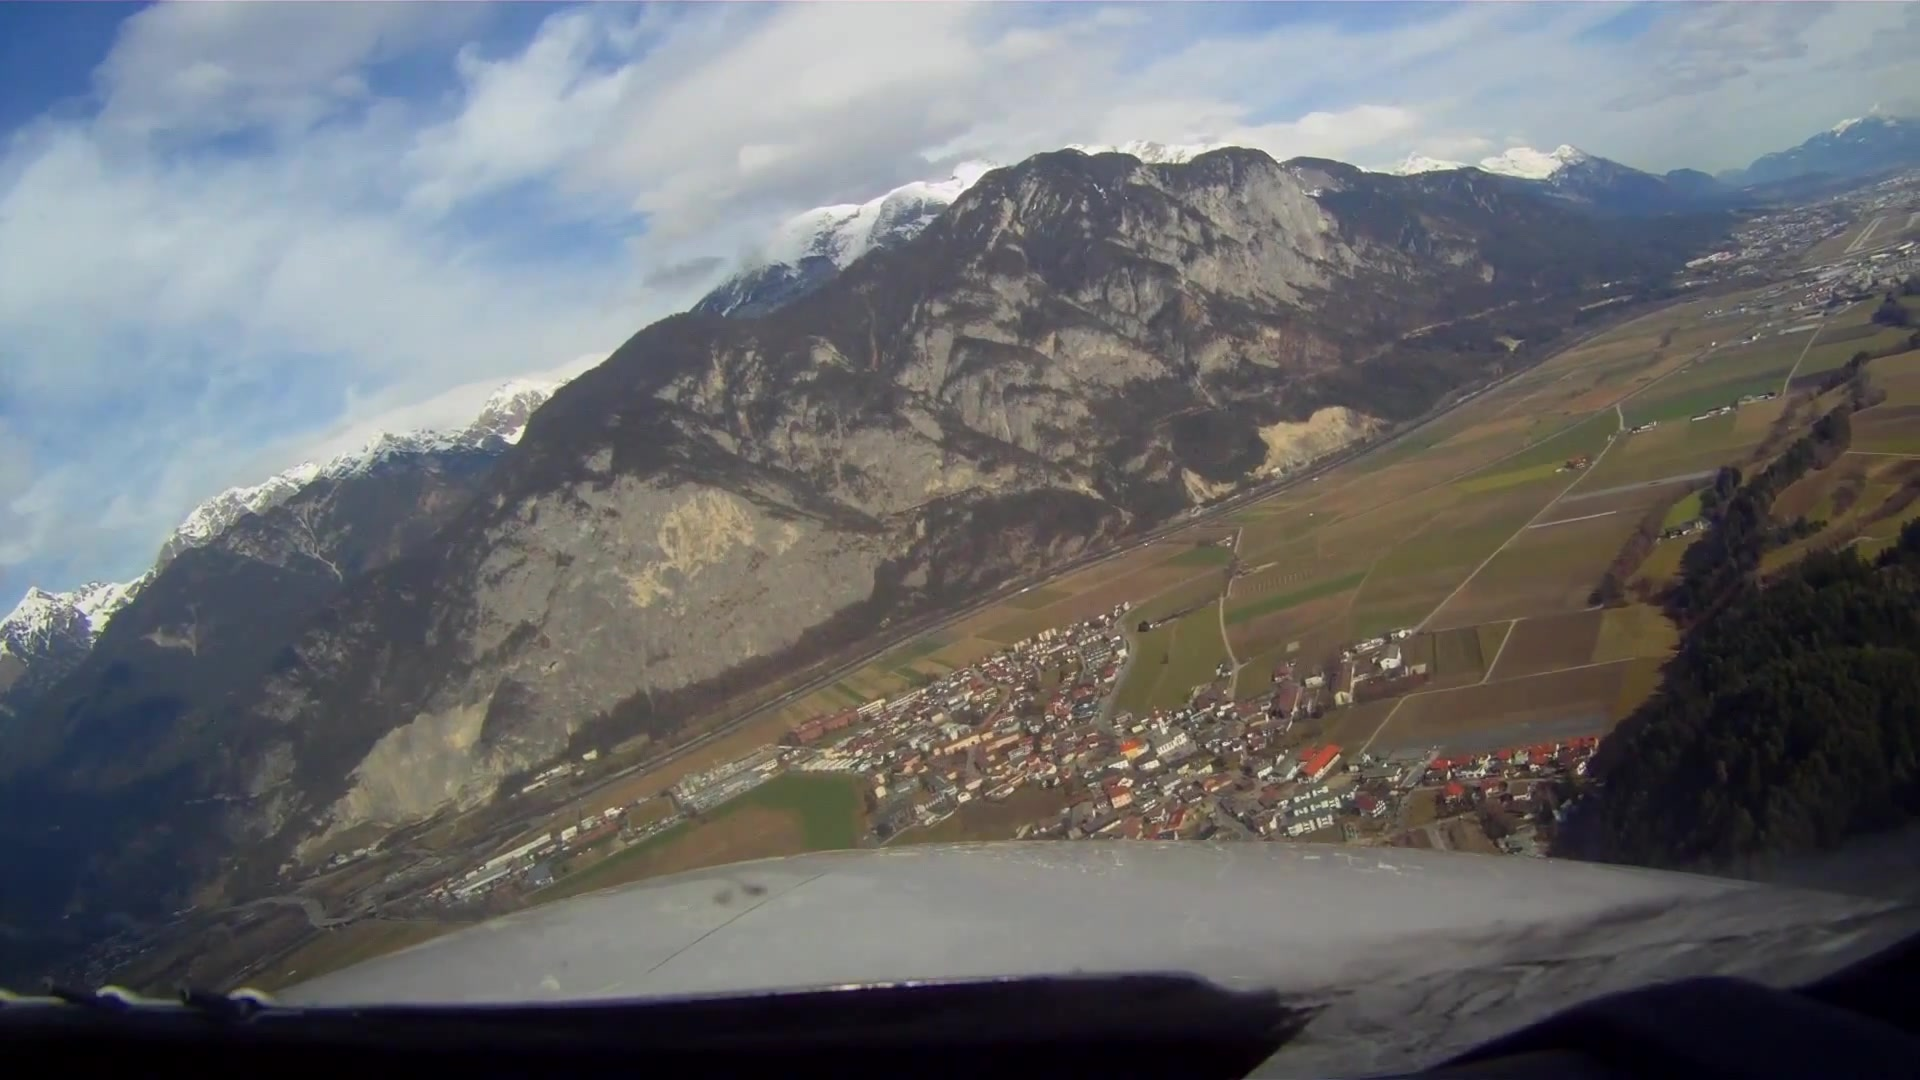runway: (1842, 215, 1888, 255)
